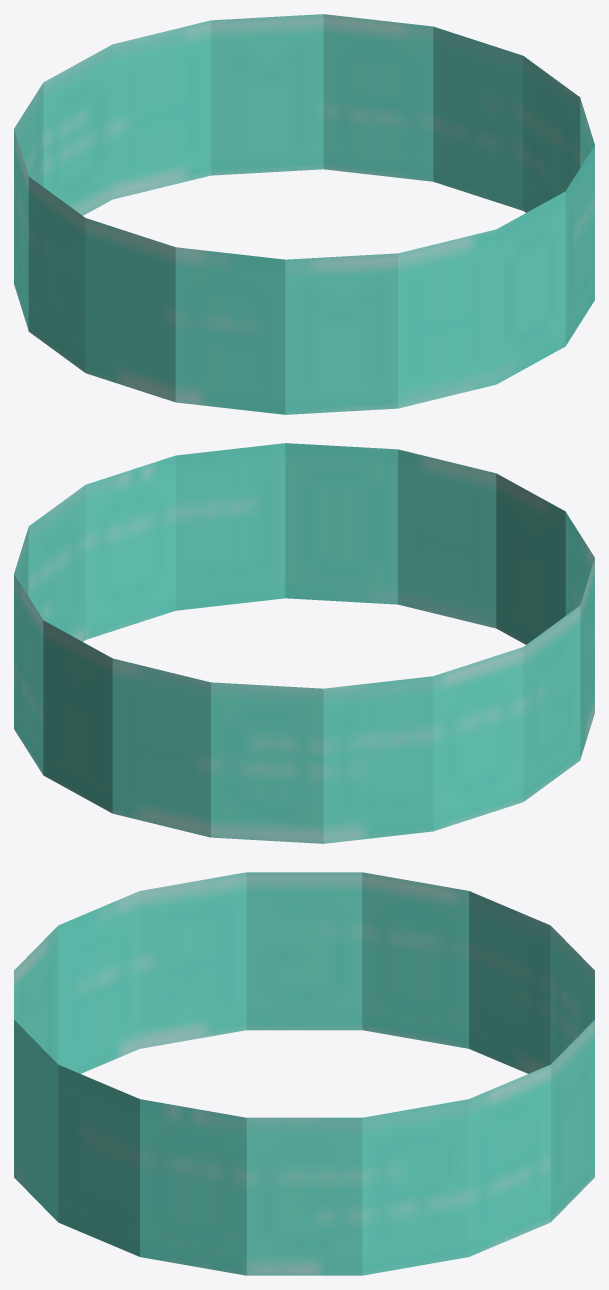
File: HologramCircle.fbx
3 renders of one model, top to bottom at view 1: azimuth 30°, elevation 25°; view 2: azimuth 150°, elevation 25°; view 3: azimuth 270°, elevation 25°, orthographic.
Parts seen in each view (by area): view 1: HoloCircle; view 2: HoloCircle; view 3: HoloCircle.
Boxes of the visible parts, x1,y1,x2,y2 form: HoloCircle: (14,14,594,414); HoloCircle: (14,443,594,843); HoloCircle: (14,872,594,1275).
Size of the model in its own units: 62.5 by 18.75 by 62.5.
1 material, 1 textured.
